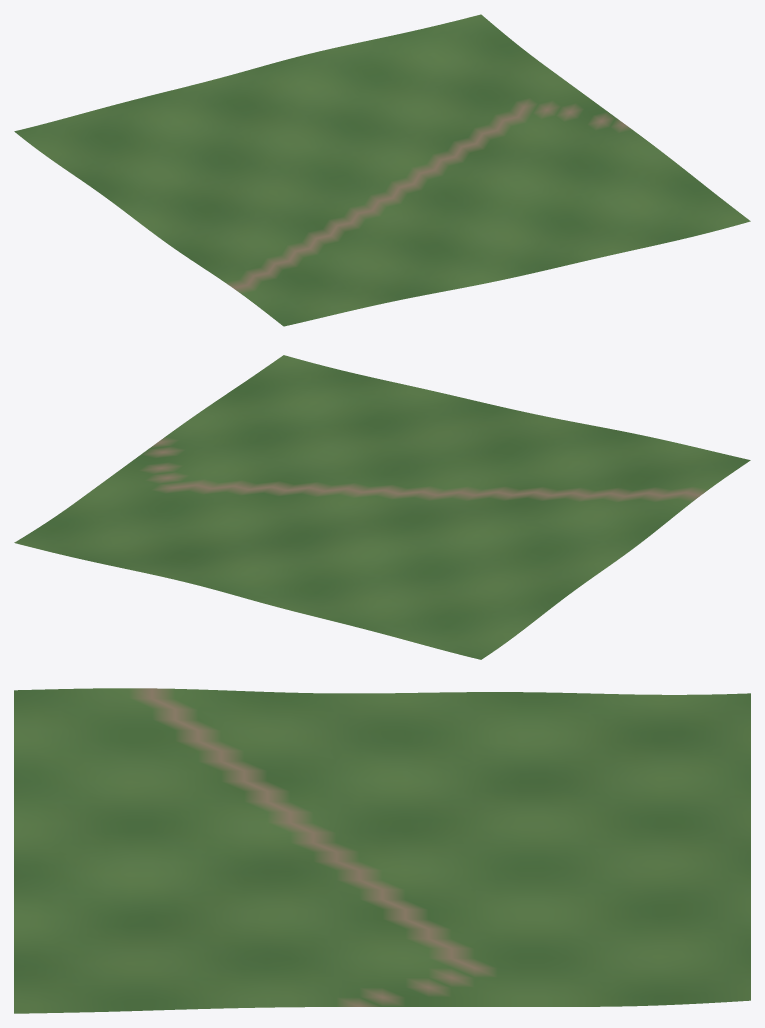
The model's file is chunk_5_2.glb.
The picture shows the model from 3 angles, top to bottom: view 1: azimuth 30°, elevation 25°; view 2: azimuth 150°, elevation 25°; view 3: azimuth 270°, elevation 25°; orthographic projection. The views are drawn at different scales.
Size of the model in its own units: 512 by 13.84 by 512.
